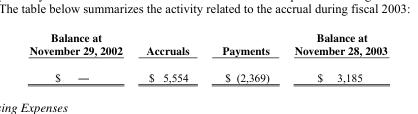table: (28, 29, 386, 83)
table column: (28, 29, 133, 83), (281, 29, 386, 83), (205, 29, 281, 83), (133, 29, 205, 83)
table column header: (28, 29, 386, 64)
table row: (28, 29, 386, 64), (28, 64, 386, 83)
